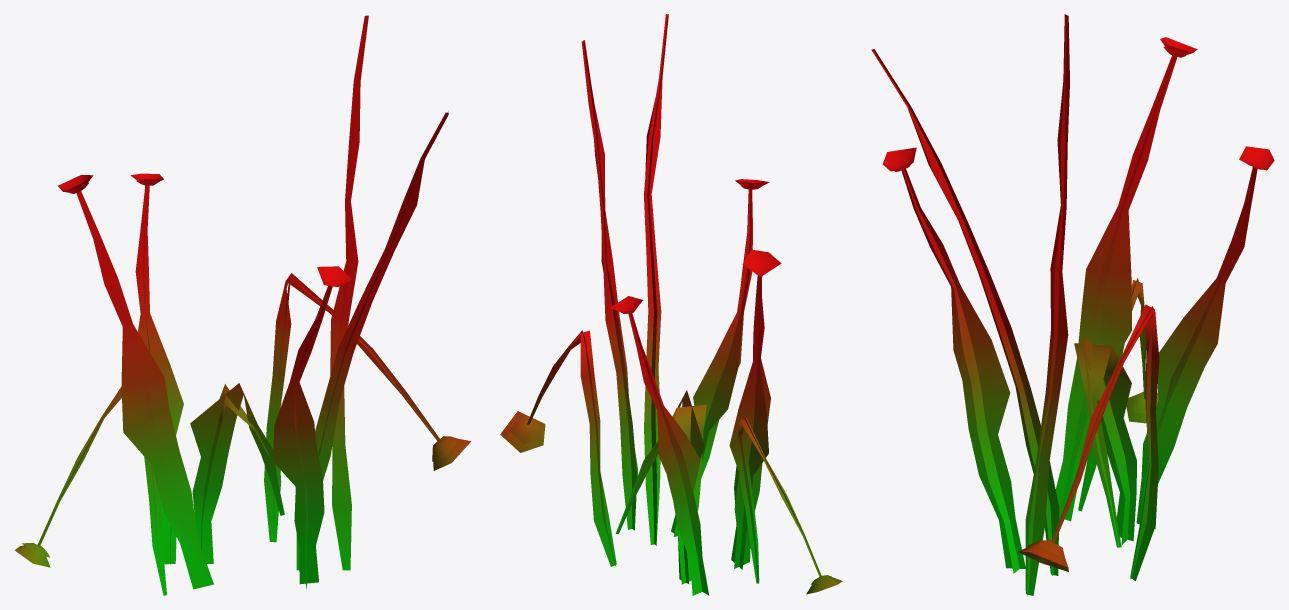
Rendered from White Everlasting_LOD1_Var9_ucvobbbia.fbx.
3 renders of one model, left to right at view 1: azimuth 30°, elevation 25°; view 2: azimuth 150°, elevation 25°; view 3: azimuth 270°, elevation 25°, orthographic. The views are drawn at different scales.
Visible parts, largest first — view 1: _e75a_Var9_LOD1; view 2: _e75a_Var9_LOD1; view 3: _e75a_Var9_LOD1.
Boxes of the visible parts, x1,y1,x2,y2 form: _e75a_Var9_LOD1: (14, 15, 471, 595); _e75a_Var9_LOD1: (500, 14, 842, 595); _e75a_Var9_LOD1: (871, 14, 1274, 595).
Bounding box in the file's own units: 35.36 × 45 × 27.24.
